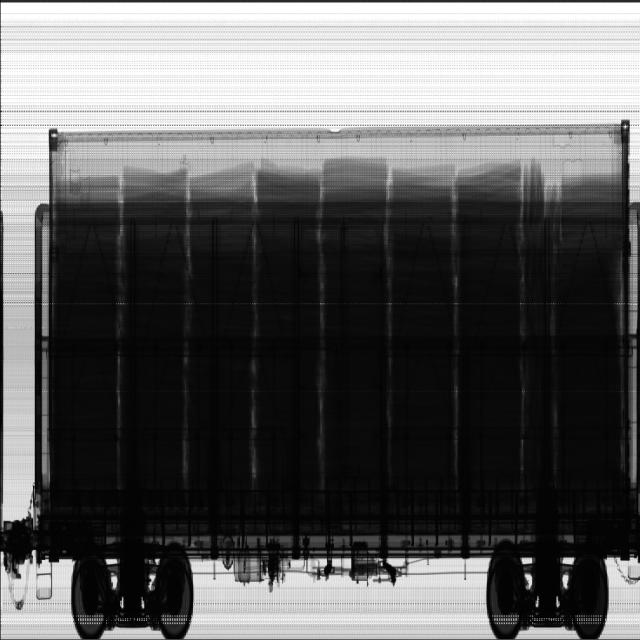fabrics: (54, 158, 624, 488)
